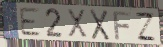2: (44, 7, 64, 39)
E: (19, 8, 43, 38)
F: (112, 10, 133, 42)
X: (89, 8, 111, 42), (66, 8, 89, 40)
Z: (134, 11, 158, 43)
